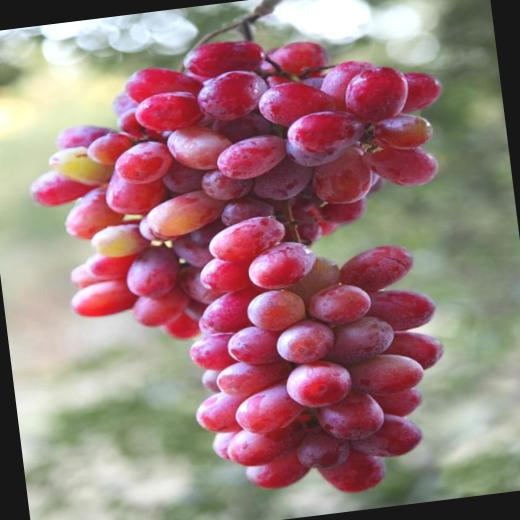Orange: (15, 14, 487, 520)
